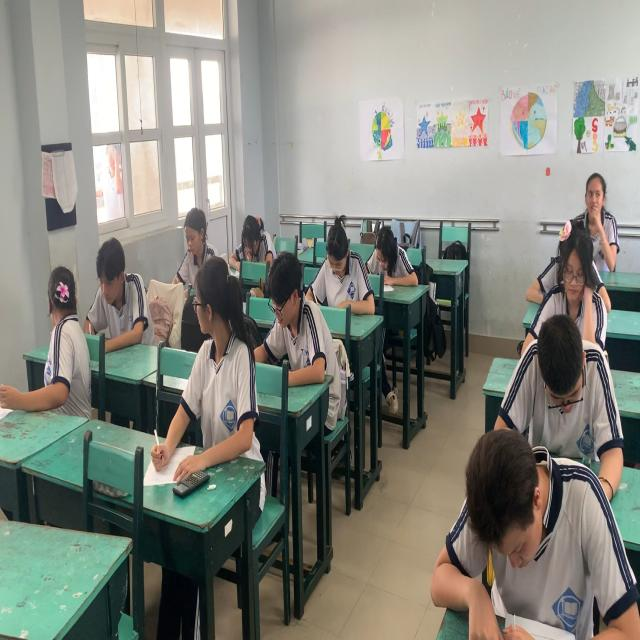cheating: (187, 254, 255, 457), (40, 261, 94, 414)
not_cheating: (452, 413, 588, 625), (517, 313, 606, 455), (268, 246, 324, 380), (93, 232, 147, 352), (549, 223, 601, 326), (318, 214, 363, 316), (574, 169, 613, 257), (372, 218, 408, 292), (238, 207, 272, 274), (179, 200, 210, 270)
